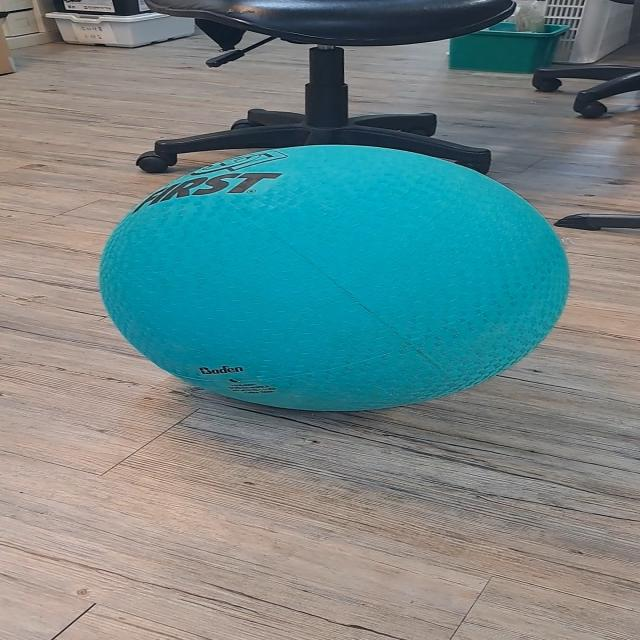ALGAE: (96, 143, 572, 413)
